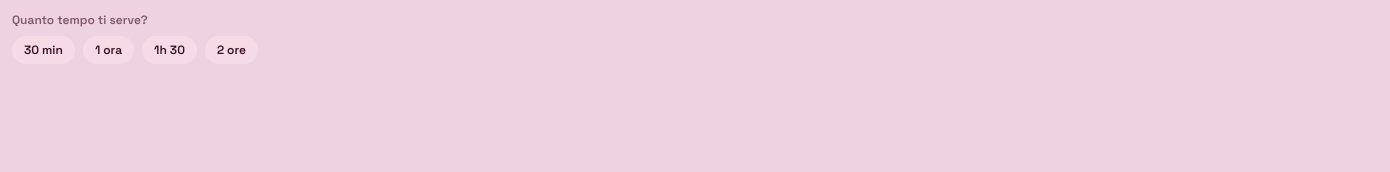
SlotSuggestions — step 2: risultati › mostra un messaggio esplicito quando non trova nessuno slot libero
Click the button "30 min" at (43, 50), box x1=12 y1=36 x2=75 y2=64
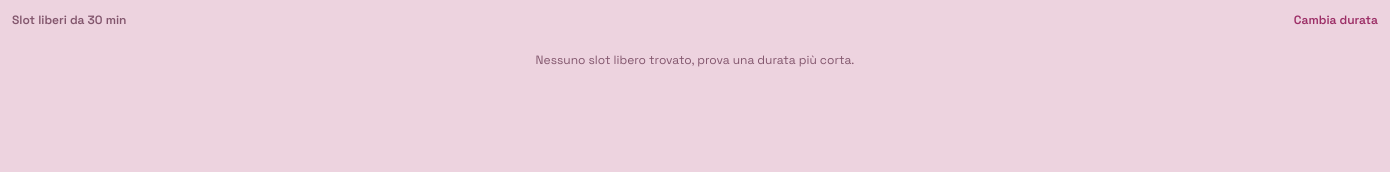
Expected: the text "Nessuno slot libero trovato, prova una durata più corta." is shown, x1=536 y1=52 x2=854 y2=68
